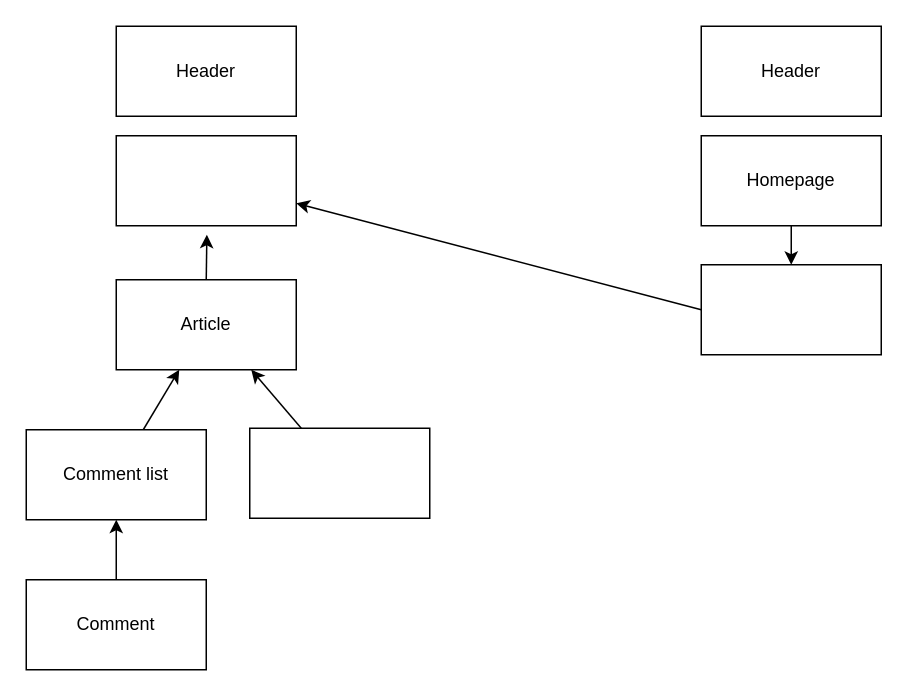
The diagram is 908 pixels wide and 696 high, and some of its shapes have lost their labels. Each missing label, with the box of its shape:
Article Display: (115, 134, 296, 226)
Like button: (248, 427, 430, 518)
List of articles: (700, 263, 881, 355)
